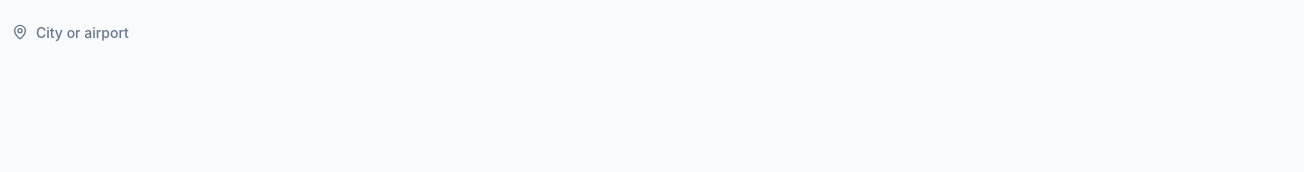
Test case: LocationCombobox › shows "No airports found" for empty results
The image size is (1304, 172).
In the field with placeholder "City or airport": [652, 32] box [12,12,1292,52], type "zzz"
Wait 200 ms
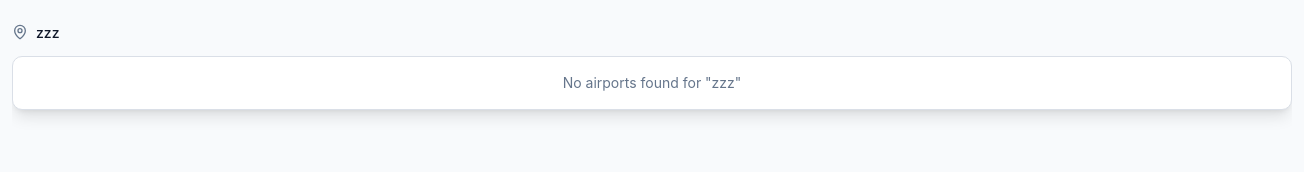
Result: the text "No airports found for \"zzz\"" is shown at [563,74,741,91]
